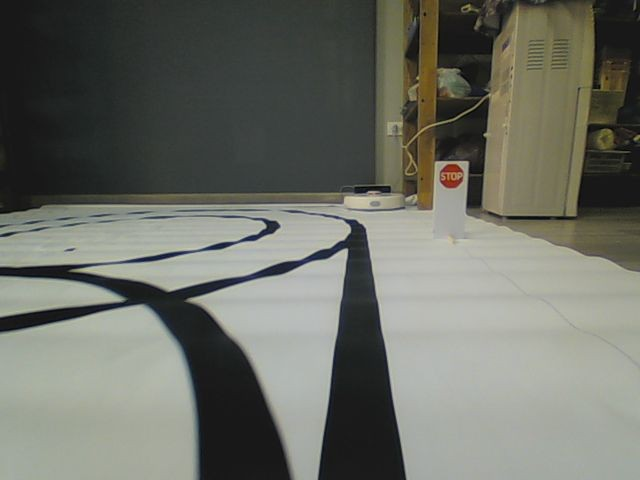Stop: (437, 163, 465, 189)
